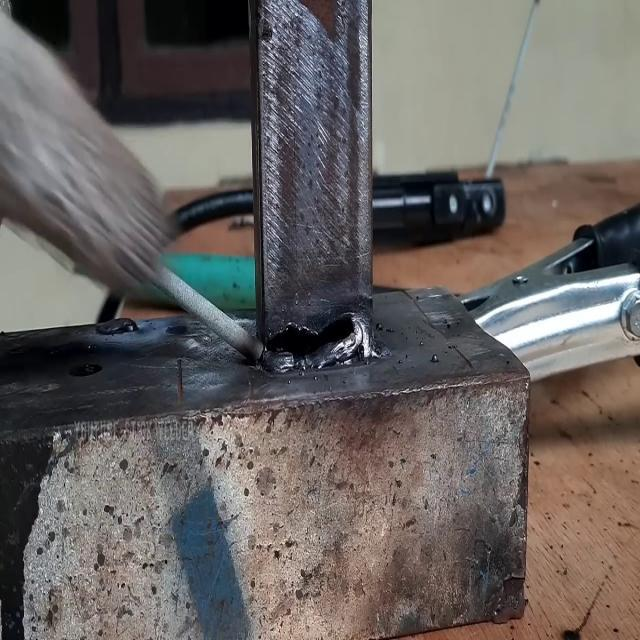Bad Welding: (270, 312, 369, 367)
